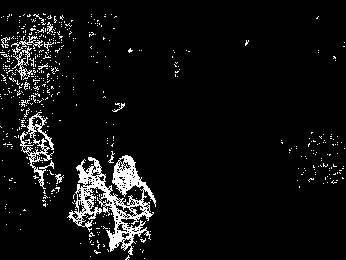person: (111, 154, 156, 257), (74, 155, 115, 259), (21, 114, 56, 208)
